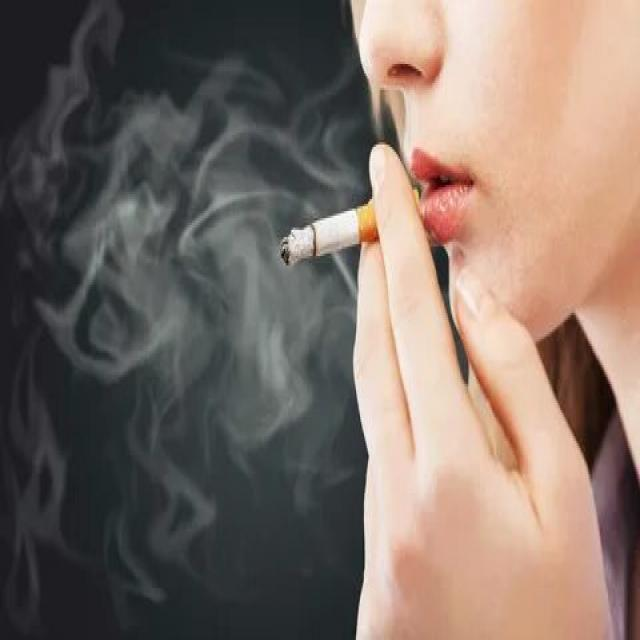smoke: (276, 182, 423, 275)
